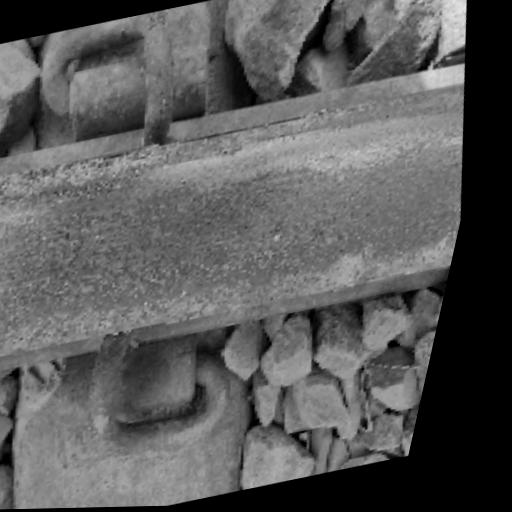erc_good: (17, 333, 243, 509), (40, 0, 220, 145)
